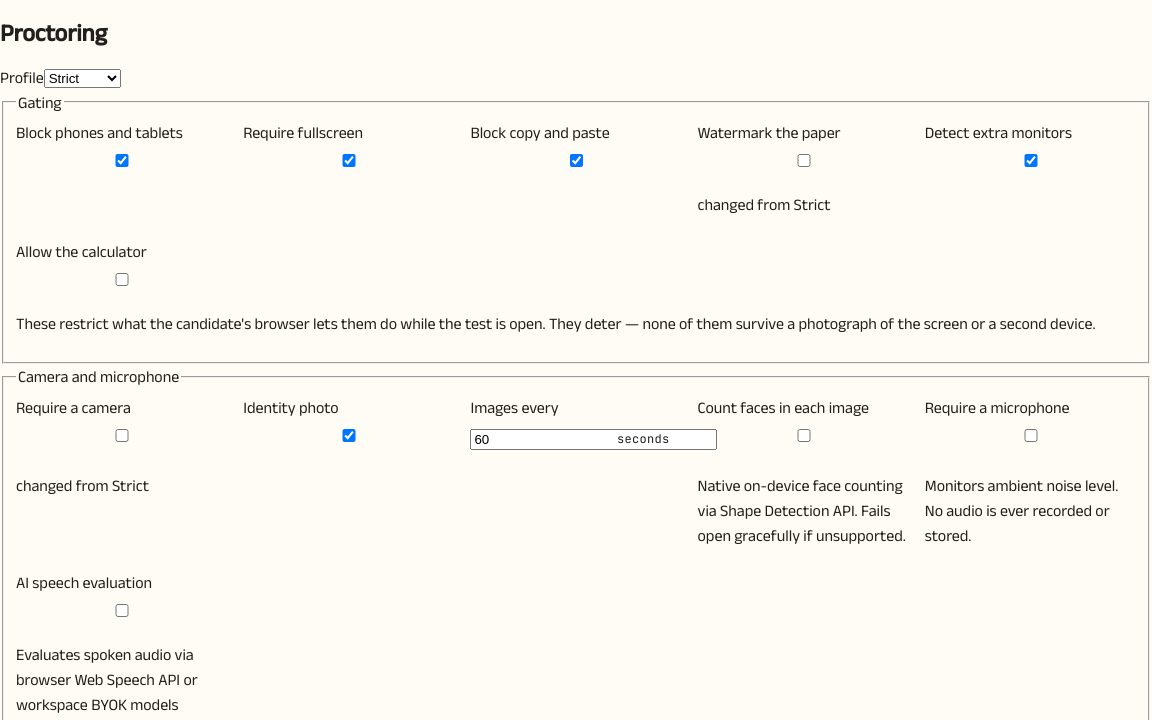
Test case: the profile rewrites the controls, visibly (Q8a) › the confirmation › asks before a profile change discards overrides, and names how many
Select "Standard" in the dropdown labelled "Profile": (82, 78) [44, 69, 121, 88]
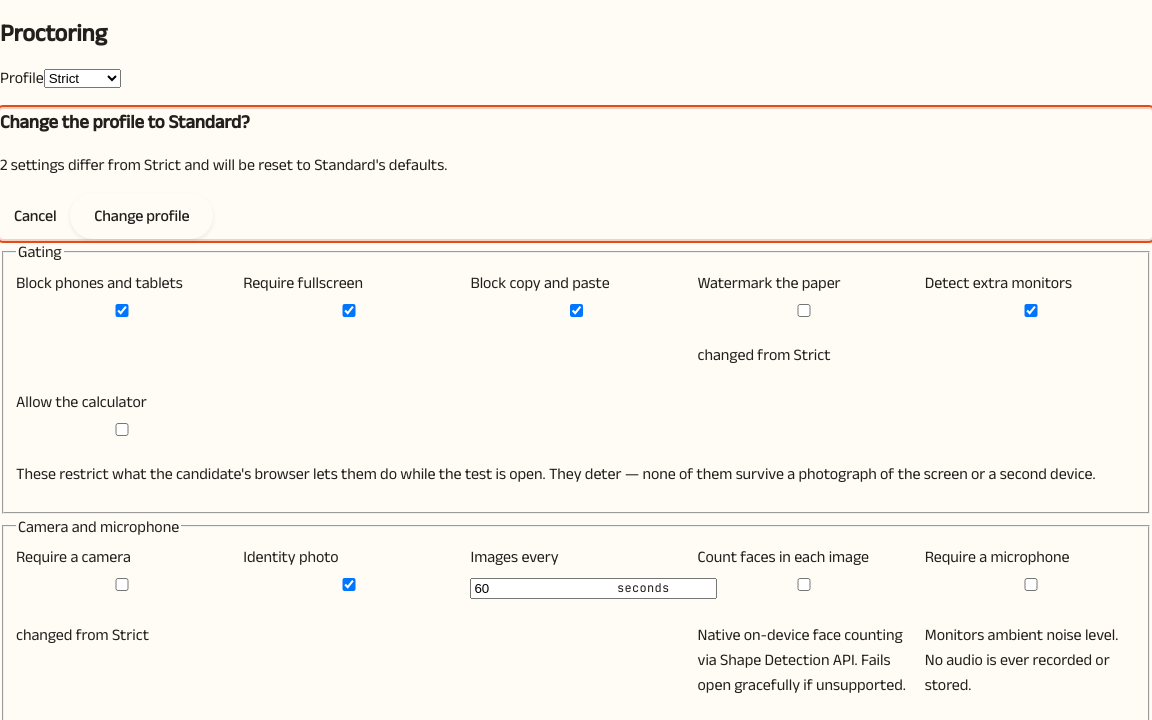
Expected: the text "2 settings" is shown, [0, 156, 447, 173]
